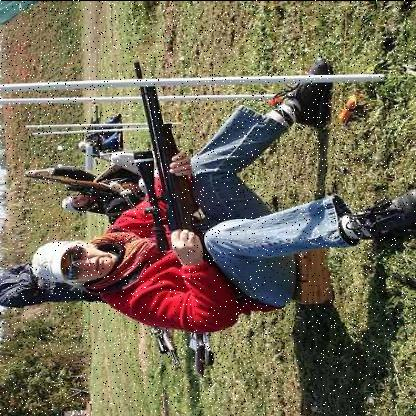rifle: (102, 49, 232, 287)
